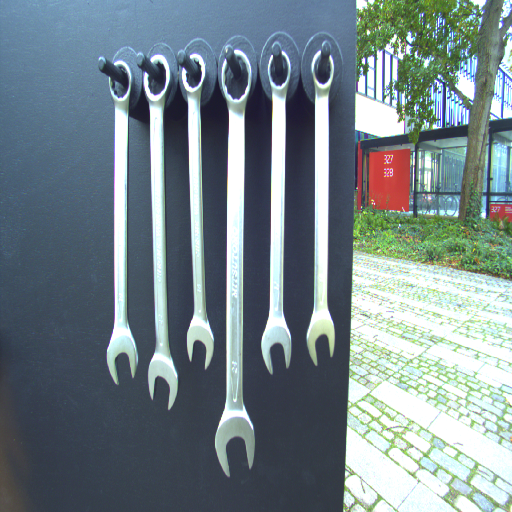bottom: (213, 406, 258, 475), (103, 326, 139, 386), (146, 354, 181, 414), (258, 318, 294, 376), (183, 315, 215, 373), (304, 312, 335, 365)
top: (219, 45, 254, 112), (140, 54, 174, 105), (105, 58, 136, 106), (178, 51, 208, 94), (309, 48, 337, 93), (266, 49, 292, 96)
